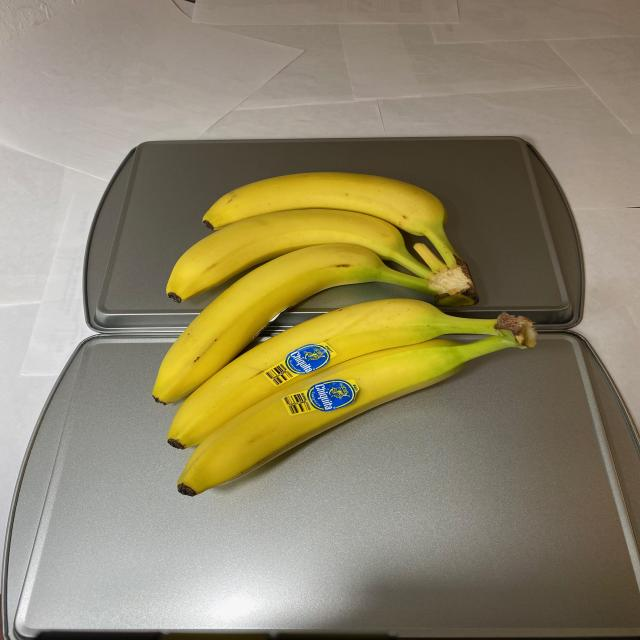banana: (146, 166, 544, 499)
